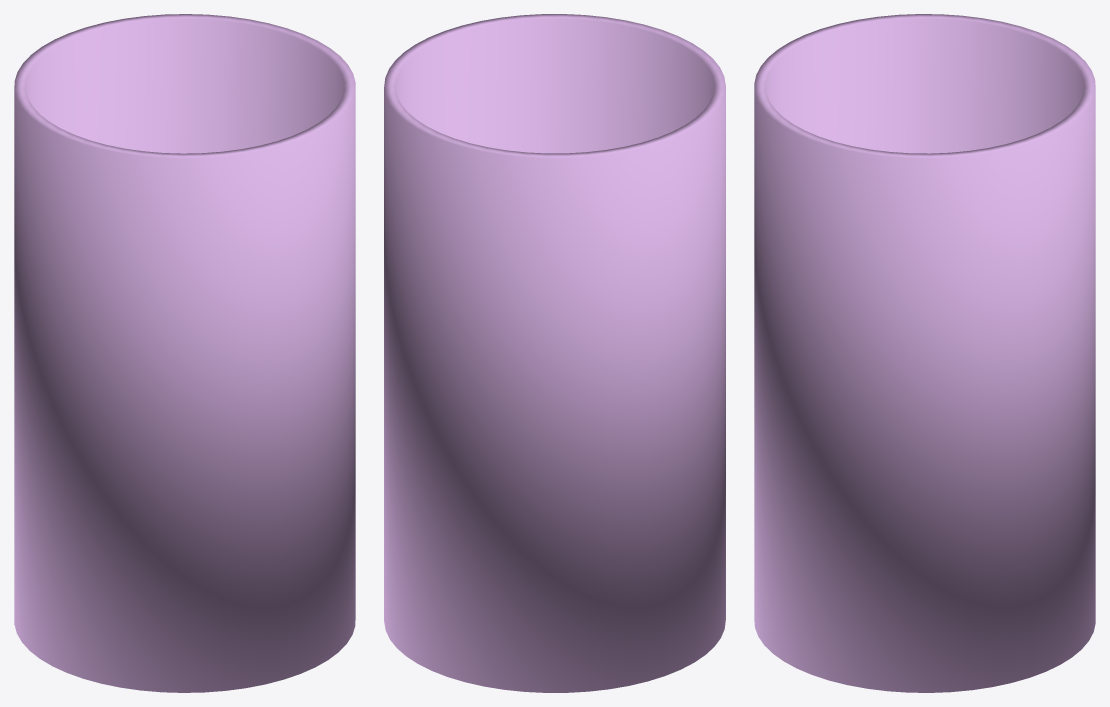
Rendered from Collection_1.fbx.
The picture shows the model from 3 angles, left to right: view 1: azimuth 30°, elevation 25°; view 2: azimuth 150°, elevation 25°; view 3: azimuth 270°, elevation 25°; orthographic projection.
Parts seen in each view (by area): view 1: KitchenGlasses.001; view 2: KitchenGlasses.001; view 3: KitchenGlasses.001.
Boxes of the visible parts, x1,y1,x2,y2 form: KitchenGlasses.001: [14, 14, 355, 692]; KitchenGlasses.001: [384, 14, 725, 692]; KitchenGlasses.001: [754, 14, 1095, 692].
Size of the model in its own units: 0.0963 by 0.1664 by 0.0963.
